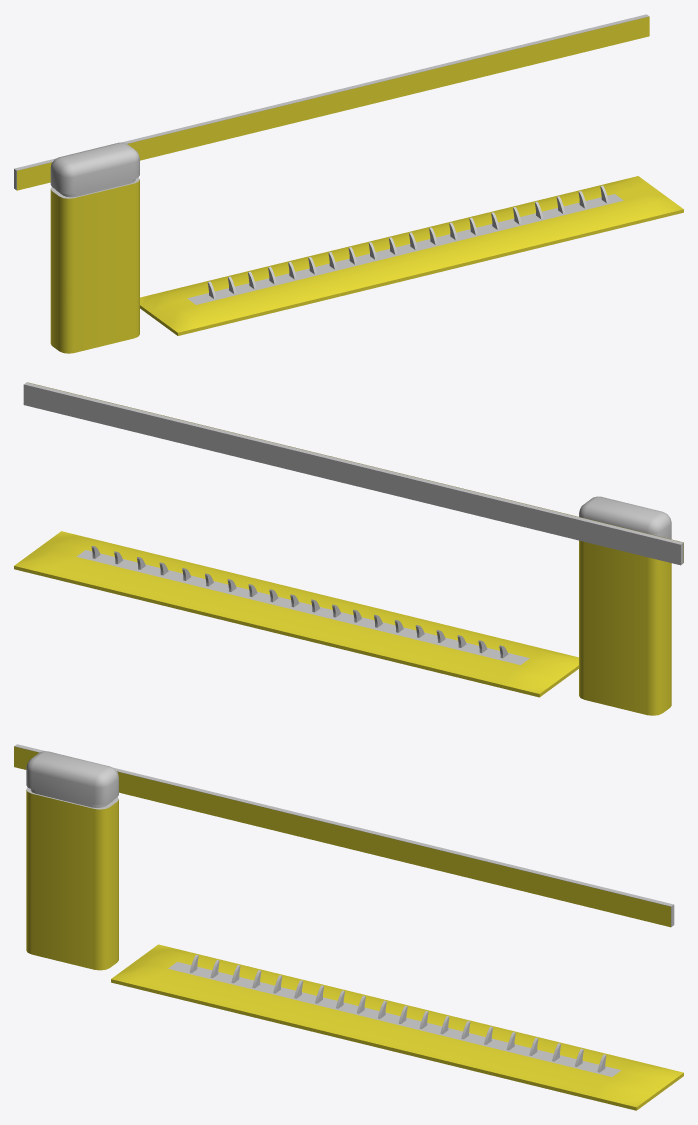
The model's file is Barrier.fbx.
3 views of the same model, one above another, from view 1: azimuth 30°, elevation 25°; view 2: azimuth 150°, elevation 25°; view 3: azimuth 330°, elevation 25° (orthographic). The views are drawn at different scales.
Parts seen in each view (by area): view 1: Barrier; view 2: Barrier; view 3: Barrier.
Part boxes in pixels (box(x1,y1,x2,y2)): Barrier: box(14, 14, 683, 353); Barrier: box(14, 382, 683, 715); Barrier: box(14, 744, 683, 1110).
Size of the model in its own units: 15762 by 1969 by 4417.
